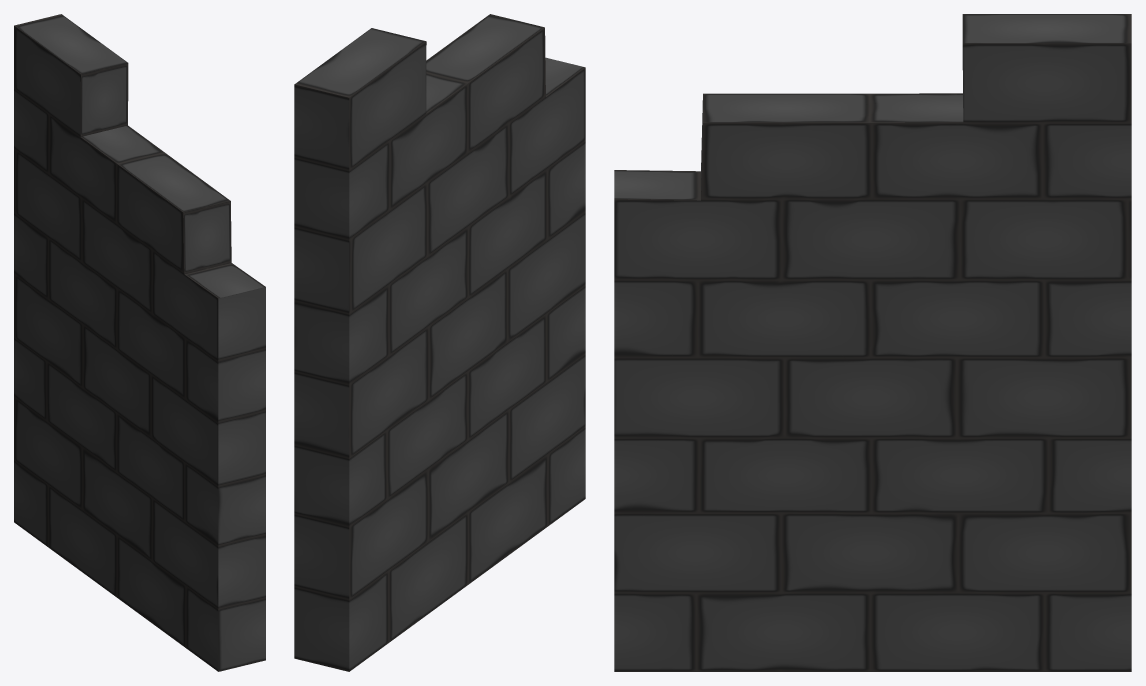
The model's file is SM_CinderWall1.fbx.
3 renders of one model, left to right at view 1: azimuth 30°, elevation 25°; view 2: azimuth 150°, elevation 25°; view 3: azimuth 270°, elevation 25°, orthographic. The views are drawn at different scales.
Parts seen in each view (by area): view 1: pCube1; view 2: pCube1; view 3: pCube1.
Part boxes in pixels (box(x1,y1,x2,y2)): pCube1: box(14, 14, 265, 671); pCube1: box(294, 14, 585, 671); pCube1: box(614, 14, 1131, 671).
Size of the model in its own units: 10 by 100 by 74.59.
